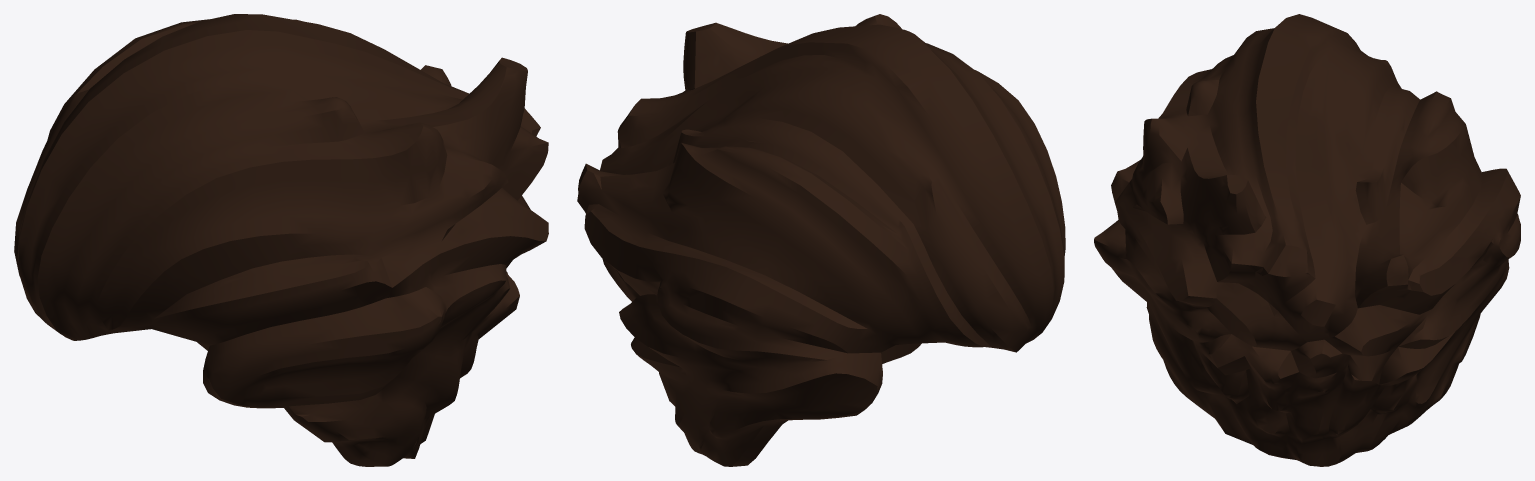
The model's file is hero_hair.glb.
3 views of the same model, side by side, from view 1: azimuth 30°, elevation 25°; view 2: azimuth 150°, elevation 25°; view 3: azimuth 270°, elevation 25° (orthographic). The views are drawn at different scales.
Visible parts, largest first — view 1: hero_hair; view 2: hero_hair; view 3: hero_hair.
Boxes of the visible parts, x1,y1,x2,y2 form: hero_hair: (14, 14, 548, 466); hero_hair: (577, 14, 1065, 466); hero_hair: (1094, 14, 1520, 466).
Bounding box in the file's own units: 0.7514 × 0.6837 × 0.7023.
